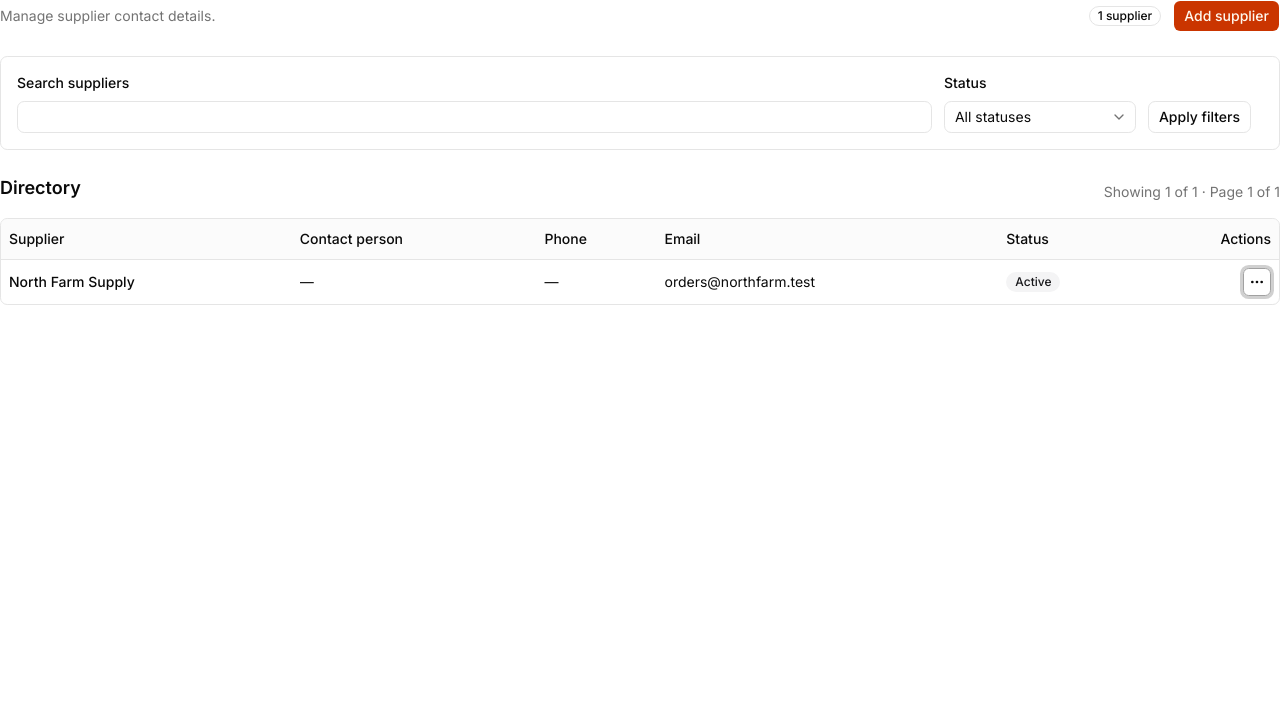
Test: catalog management › renders explicit catalog columns and keeps long-form address in record details
Expected: the column heading "Supplier" is shown, [1, 219, 292, 259]
Expected: the column heading "Contact person" is shown, [292, 219, 536, 259]
Press Enter
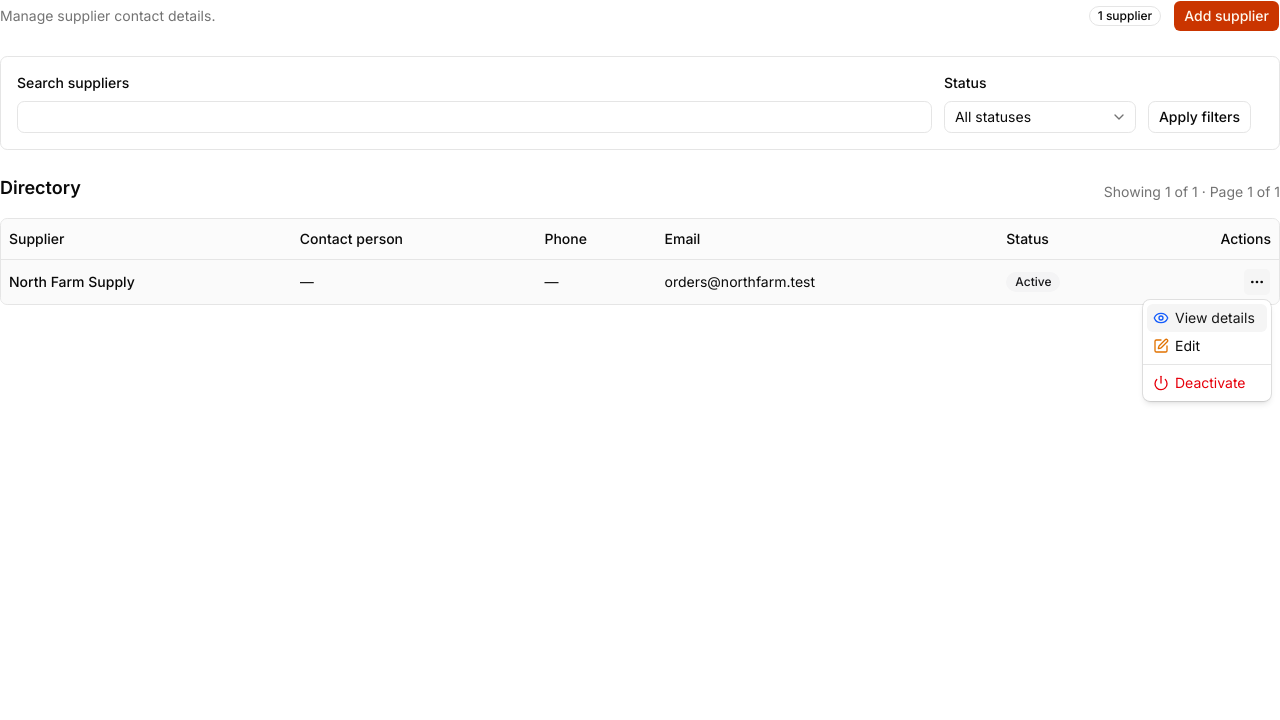
Click the menu item "View details" at x=1207, y=318, box [1147, 304, 1267, 332]
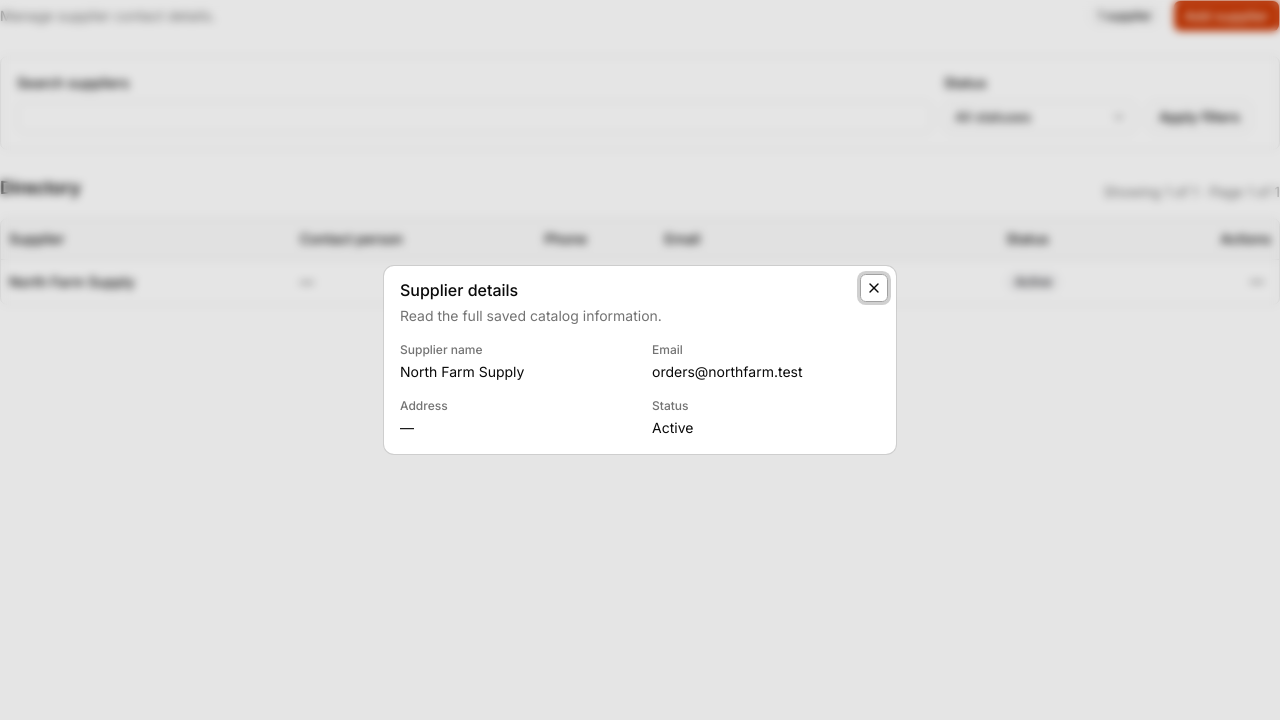
Result: the dialog "Supplier details" is shown at [384, 266, 896, 454]
Result: the text "Address" is shown at [400, 398, 448, 413]
Result: the text "—" is shown once at [400, 419, 414, 436]
